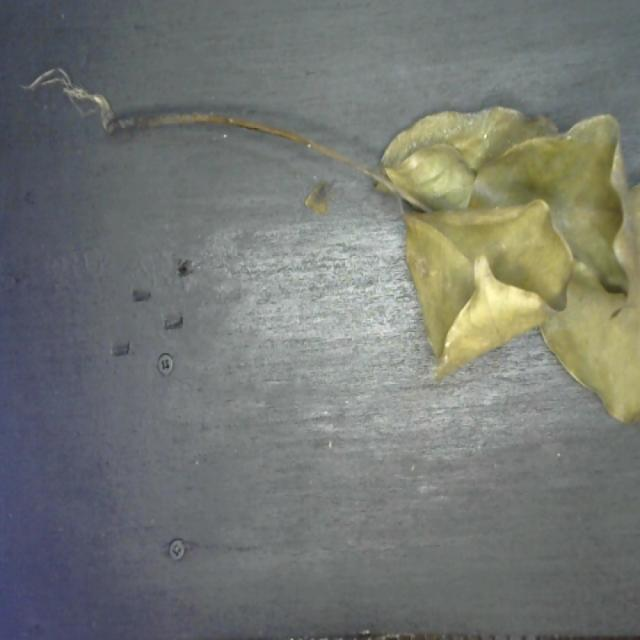biodegradable: (376, 92, 640, 436)
